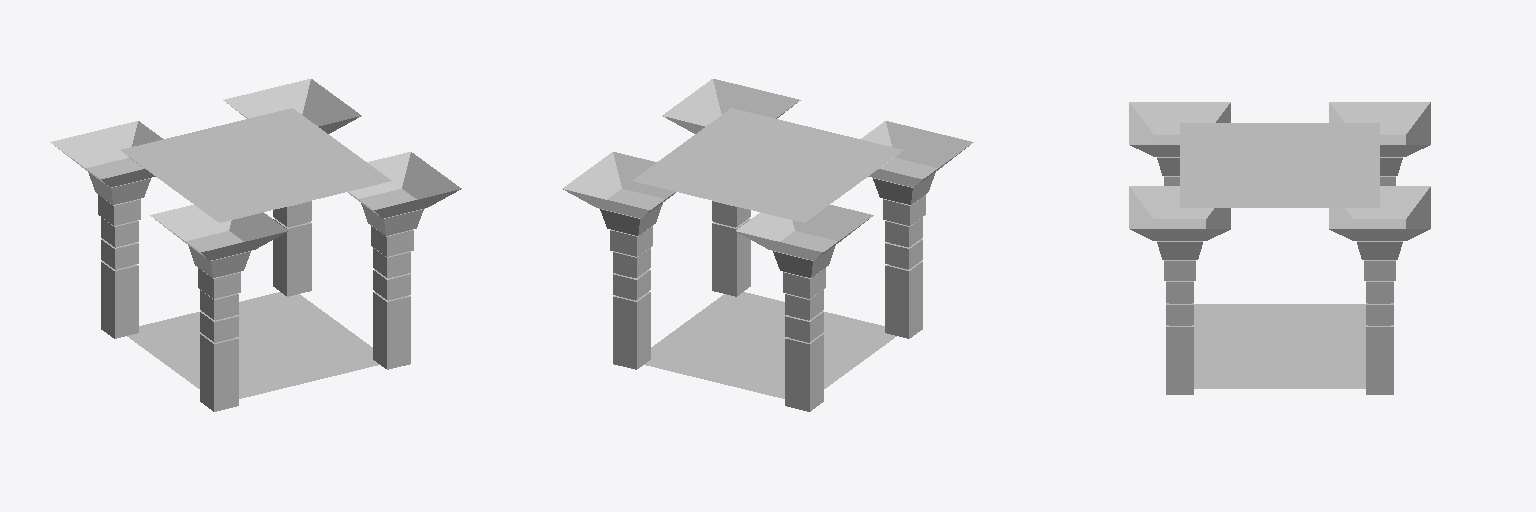
3 renders of one model, left to right at view 1: azimuth 30°, elevation 25°; view 2: azimuth 150°, elevation 25°; view 3: azimuth 270°, elevation 25°, orthographic.
Visible parts, largest first — view 1: objobjobjDuplicate16; view 2: objobjobjDuplicate16; view 3: objobjobjDuplicate16.
Boxes of the visible parts, x1=… form: objobjobjDuplicate16: x1=50, y1=79, x2=461, y2=411; objobjobjDuplicate16: x1=562, y1=79, x2=973, y2=411; objobjobjDuplicate16: x1=1129, y1=102, x2=1430, y2=394.
Bounding box in the file's own units: 15.11 × 10 × 15.11.